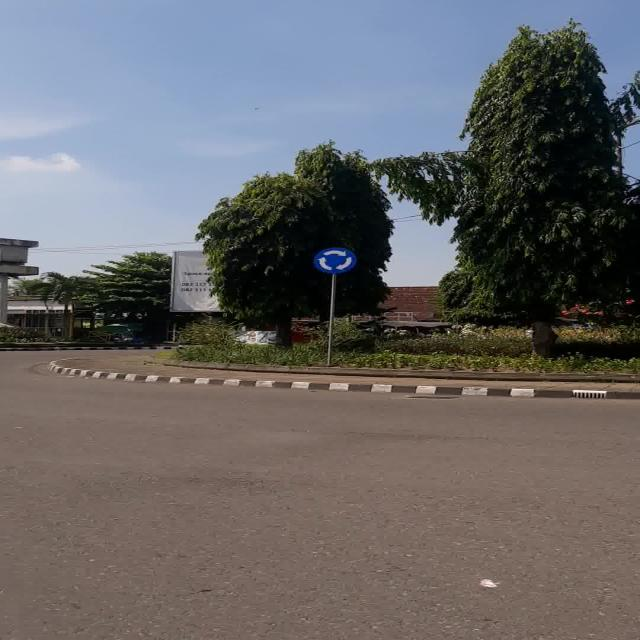Ikuti Bundaran: (314, 247, 356, 274)
